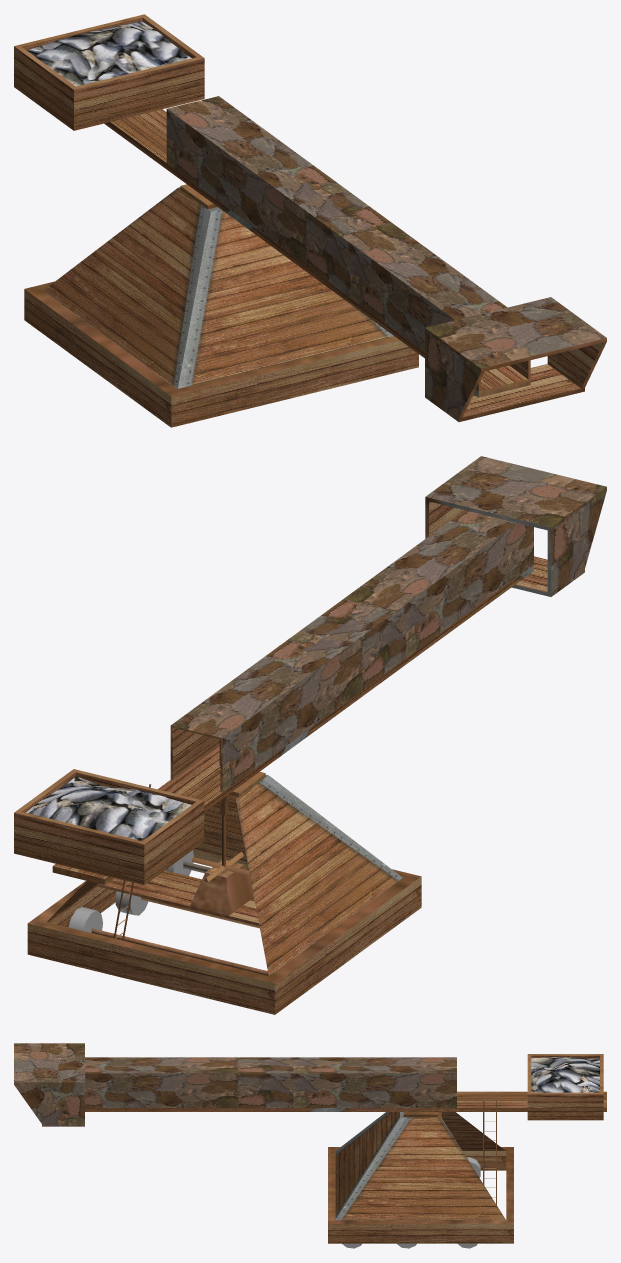
The model's file is sambuca.dae.
3 renders of one model, top to bottom at view 1: azimuth 30°, elevation 25°; view 2: azimuth 150°, elevation 25°; view 3: azimuth 270°, elevation 25°, orthographic. The views are drawn at different scales.
Parts seen in each view (by area): view 1: sambuca; view 2: sambuca; view 3: sambuca.
Part boxes in pixels (<box>): sambuca: <box>14,14,606,427</box>; sambuca: <box>14,456,606,1014</box>; sambuca: <box>14,1043,606,1248</box>.
Size of the model in its own units: 11.42 by 10.57 by 37.34.
